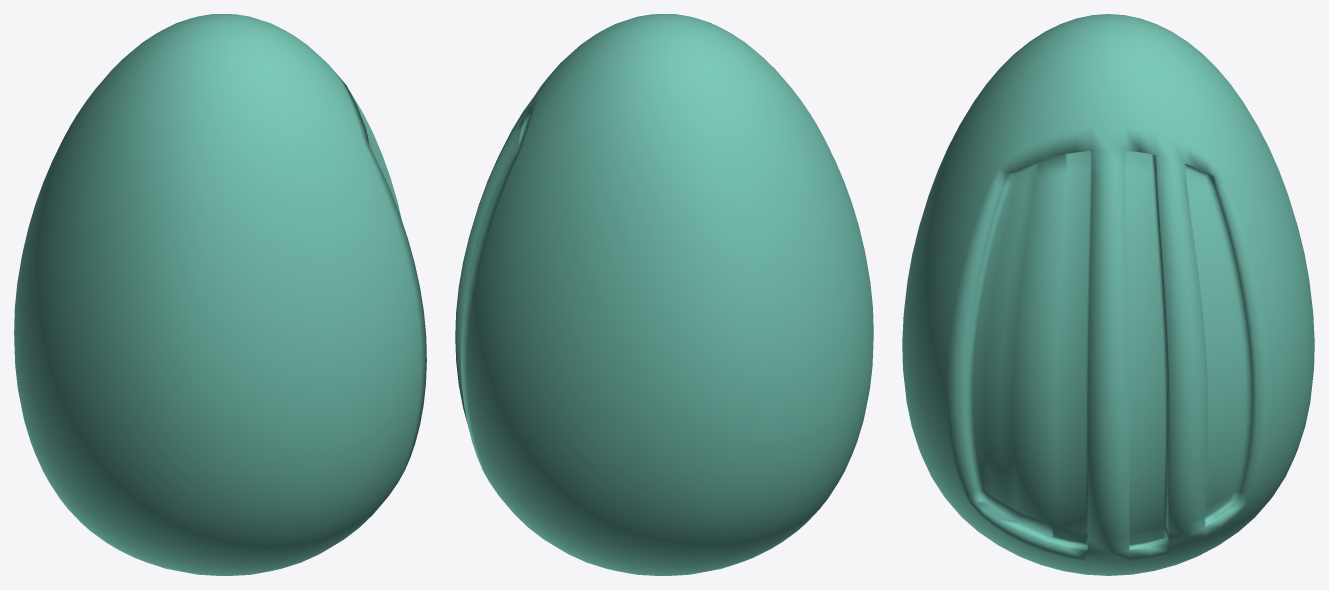
Rendered from Slime Egg  5.fbx.
3 renders of one model, left to right at view 1: azimuth 30°, elevation 25°; view 2: azimuth 150°, elevation 25°; view 3: azimuth 270°, elevation 25°, orthographic.
Visible parts, largest first — view 1: Slime Egg 1.005; view 2: Slime Egg 1.005; view 3: Slime Egg 1.005.
Boxes of the visible parts, bbox=[...] form: Slime Egg 1.005: bbox=[14, 14, 426, 575]; Slime Egg 1.005: bbox=[455, 14, 873, 575]; Slime Egg 1.005: bbox=[902, 14, 1314, 575].
Size of the model in its own units: 256 by 362 by 256.
